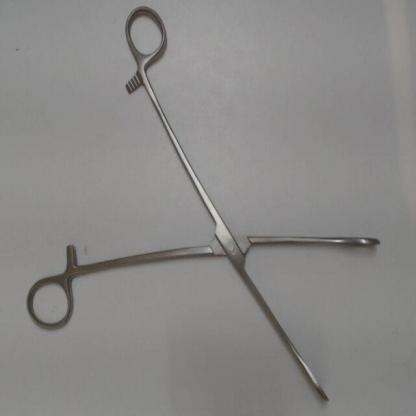Sponge Forceps: (21, 3, 390, 411)
